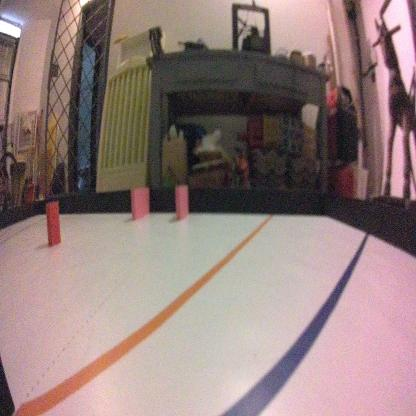magenta: (173, 183, 190, 220), (130, 188, 149, 220)
red: (44, 196, 60, 244)
